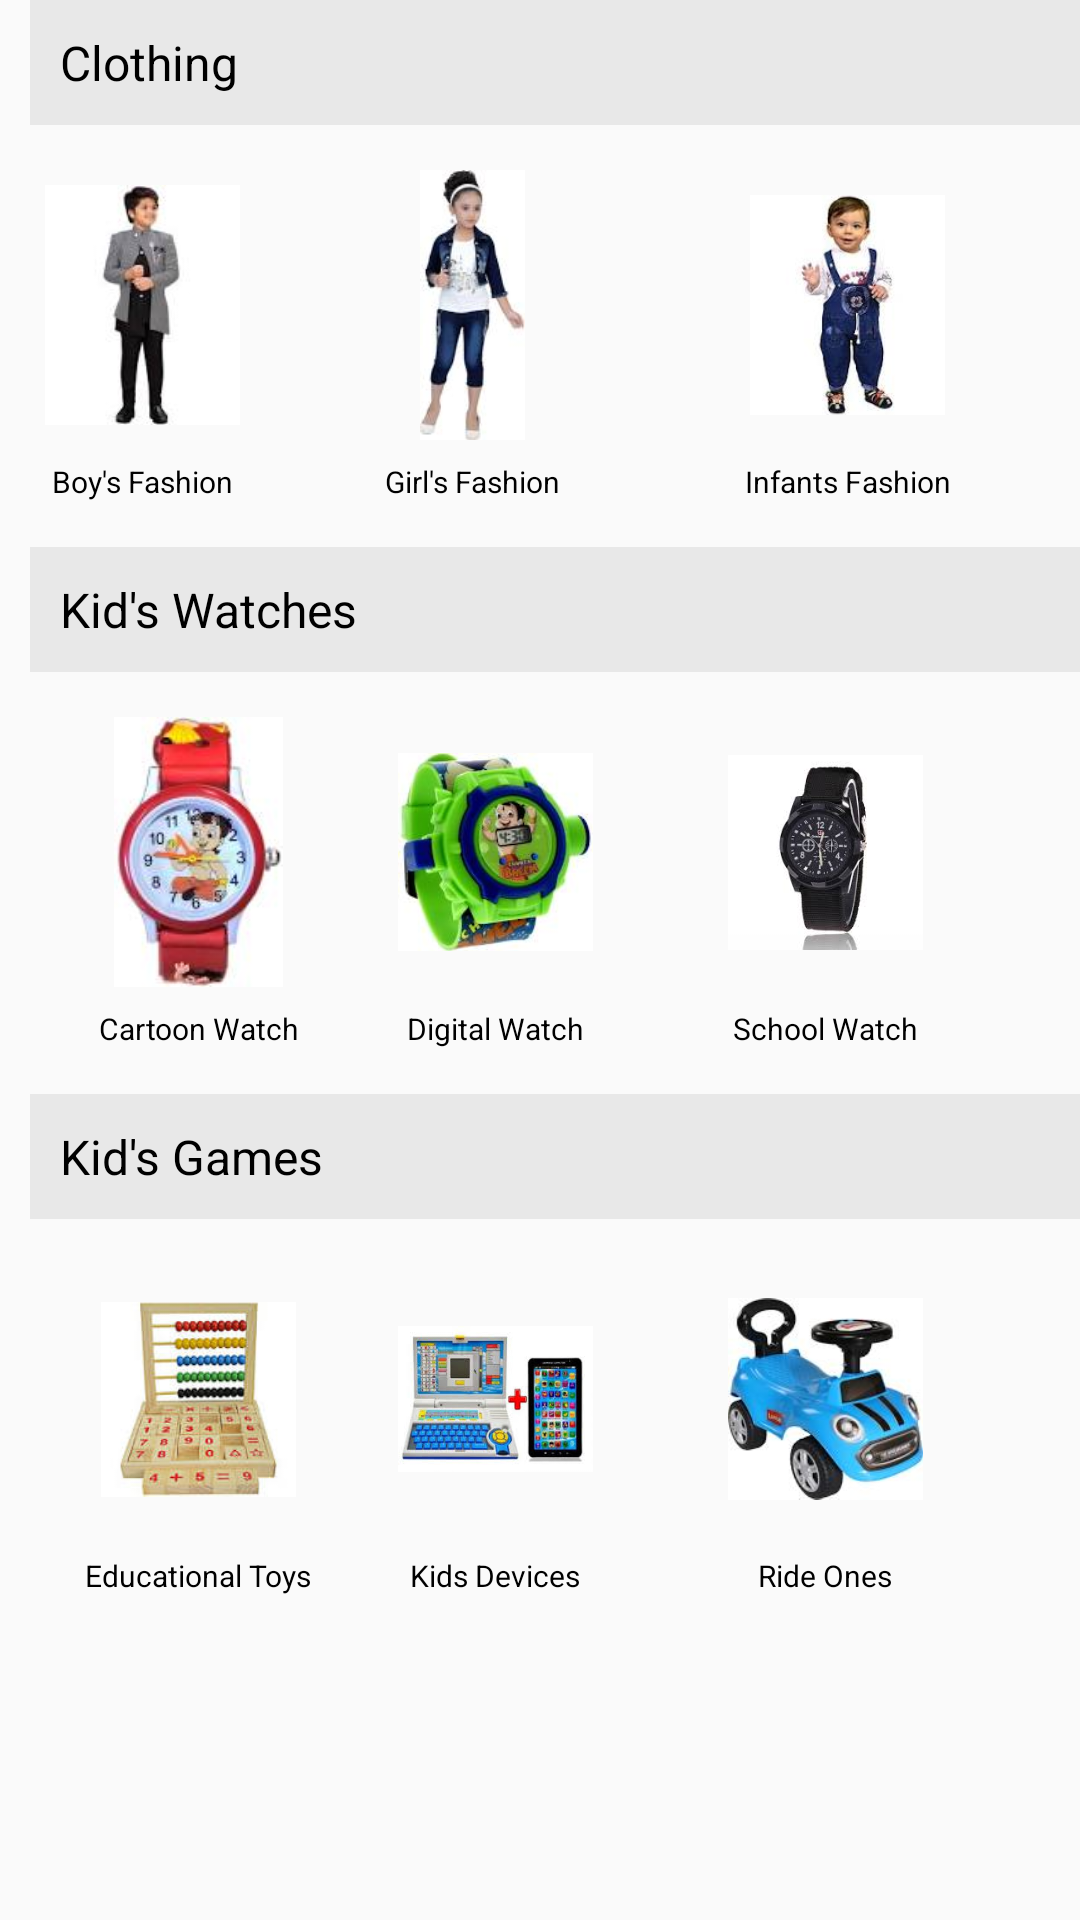

Icons on this 1080w x 1920h Android screen, each with the point to tap as point (x, y):
laptops tablets: point (492, 1398)
